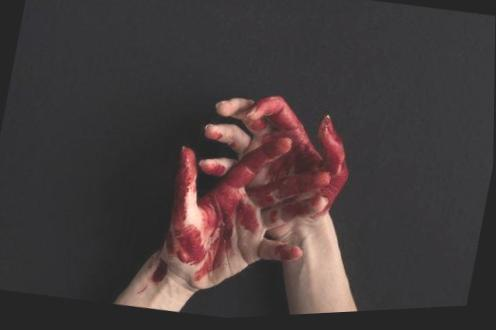Fire: (128, 100, 348, 296), (269, 246, 303, 265)
